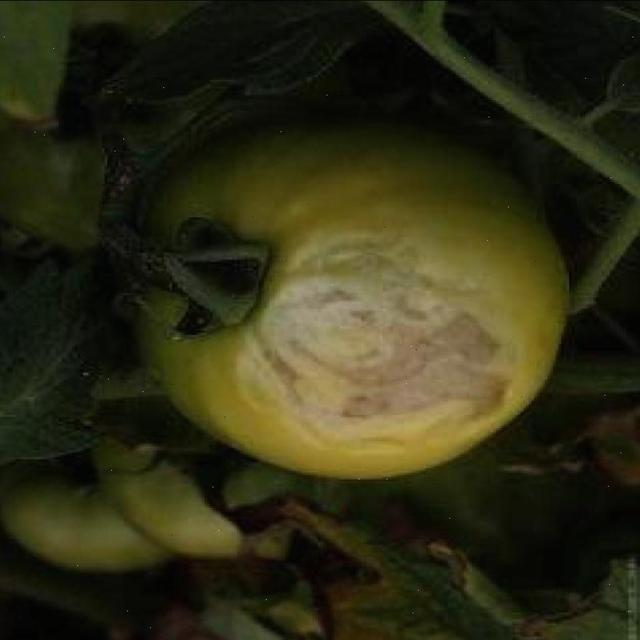Sunscald Fruit: (158, 145, 358, 304)
